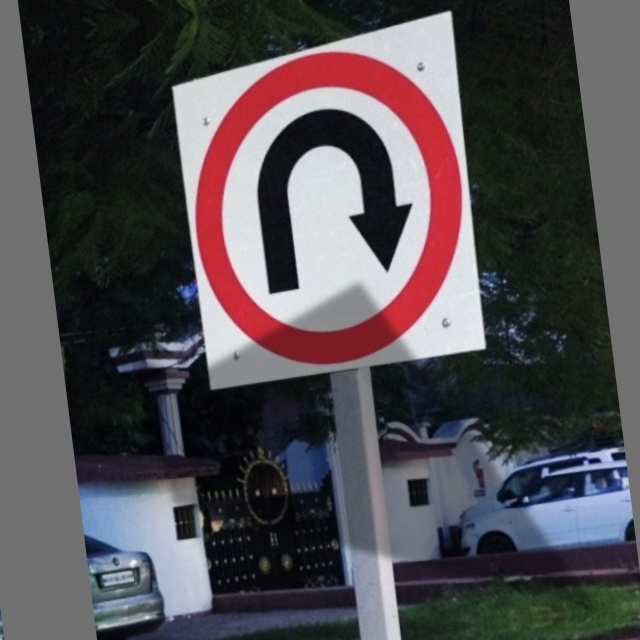U_Turn_Ahead: (166, 43, 485, 376)
